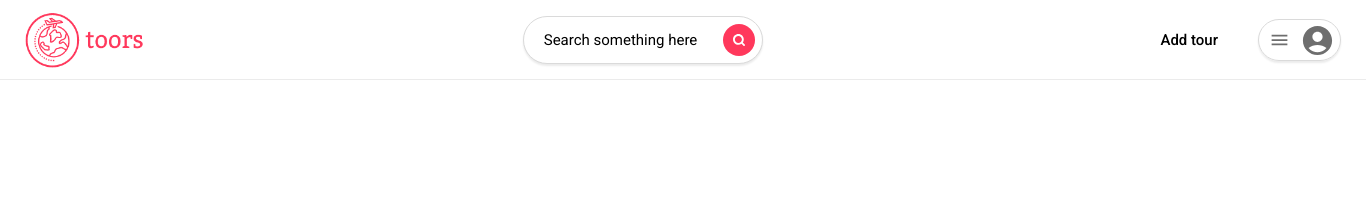
Test: NAVBAR › should show Login and Signup links when user is NOT logged in
The image size is (1366, 207).
What coordinates should you click on to do the following:
click the button named "menu button" next to "Add tour"
I would click on:
 (1300, 40)
Its box is [1258, 19, 1341, 61].
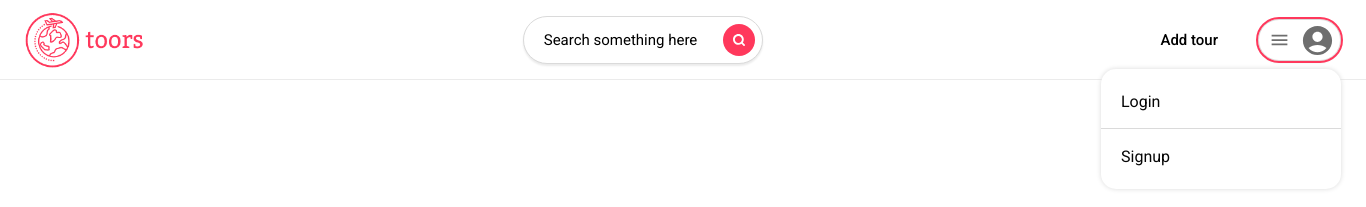
Now the link "Login" is shown, box [1121, 92, 1160, 111]
Now the link "Signup" is shown, box [1121, 147, 1170, 166]
